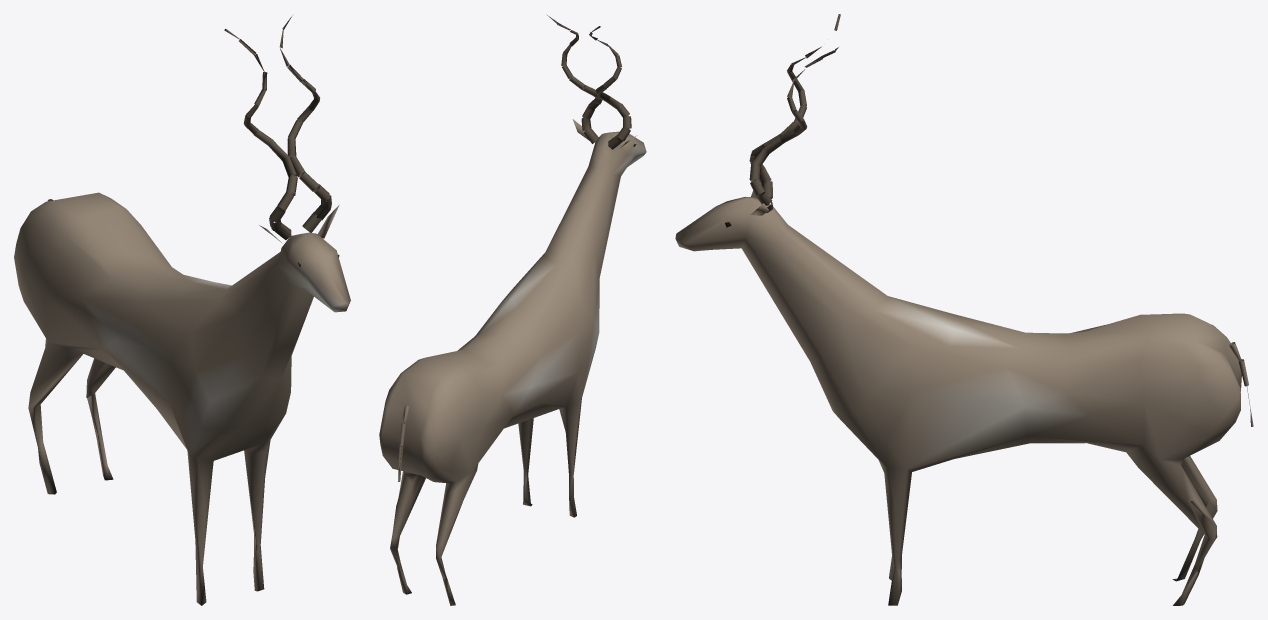
File: kudu.glb
3 renders of one model, left to right at view 1: azimuth 30°, elevation 25°; view 2: azimuth 150°, elevation 25°; view 3: azimuth 270°, elevation 25°, orthographic. The views are drawn at different scales.
Parts seen in each view (by area): view 1: lack; view 2: lack; view 3: lack.
Boxes of the visible parts, x1,y1,x2,y2 form: lack: [14, 15, 350, 605]; lack: [379, 14, 646, 605]; lack: [675, 14, 1253, 605].
Bounding box in the file's own units: 0.5085 × 2.87 × 2.67.
